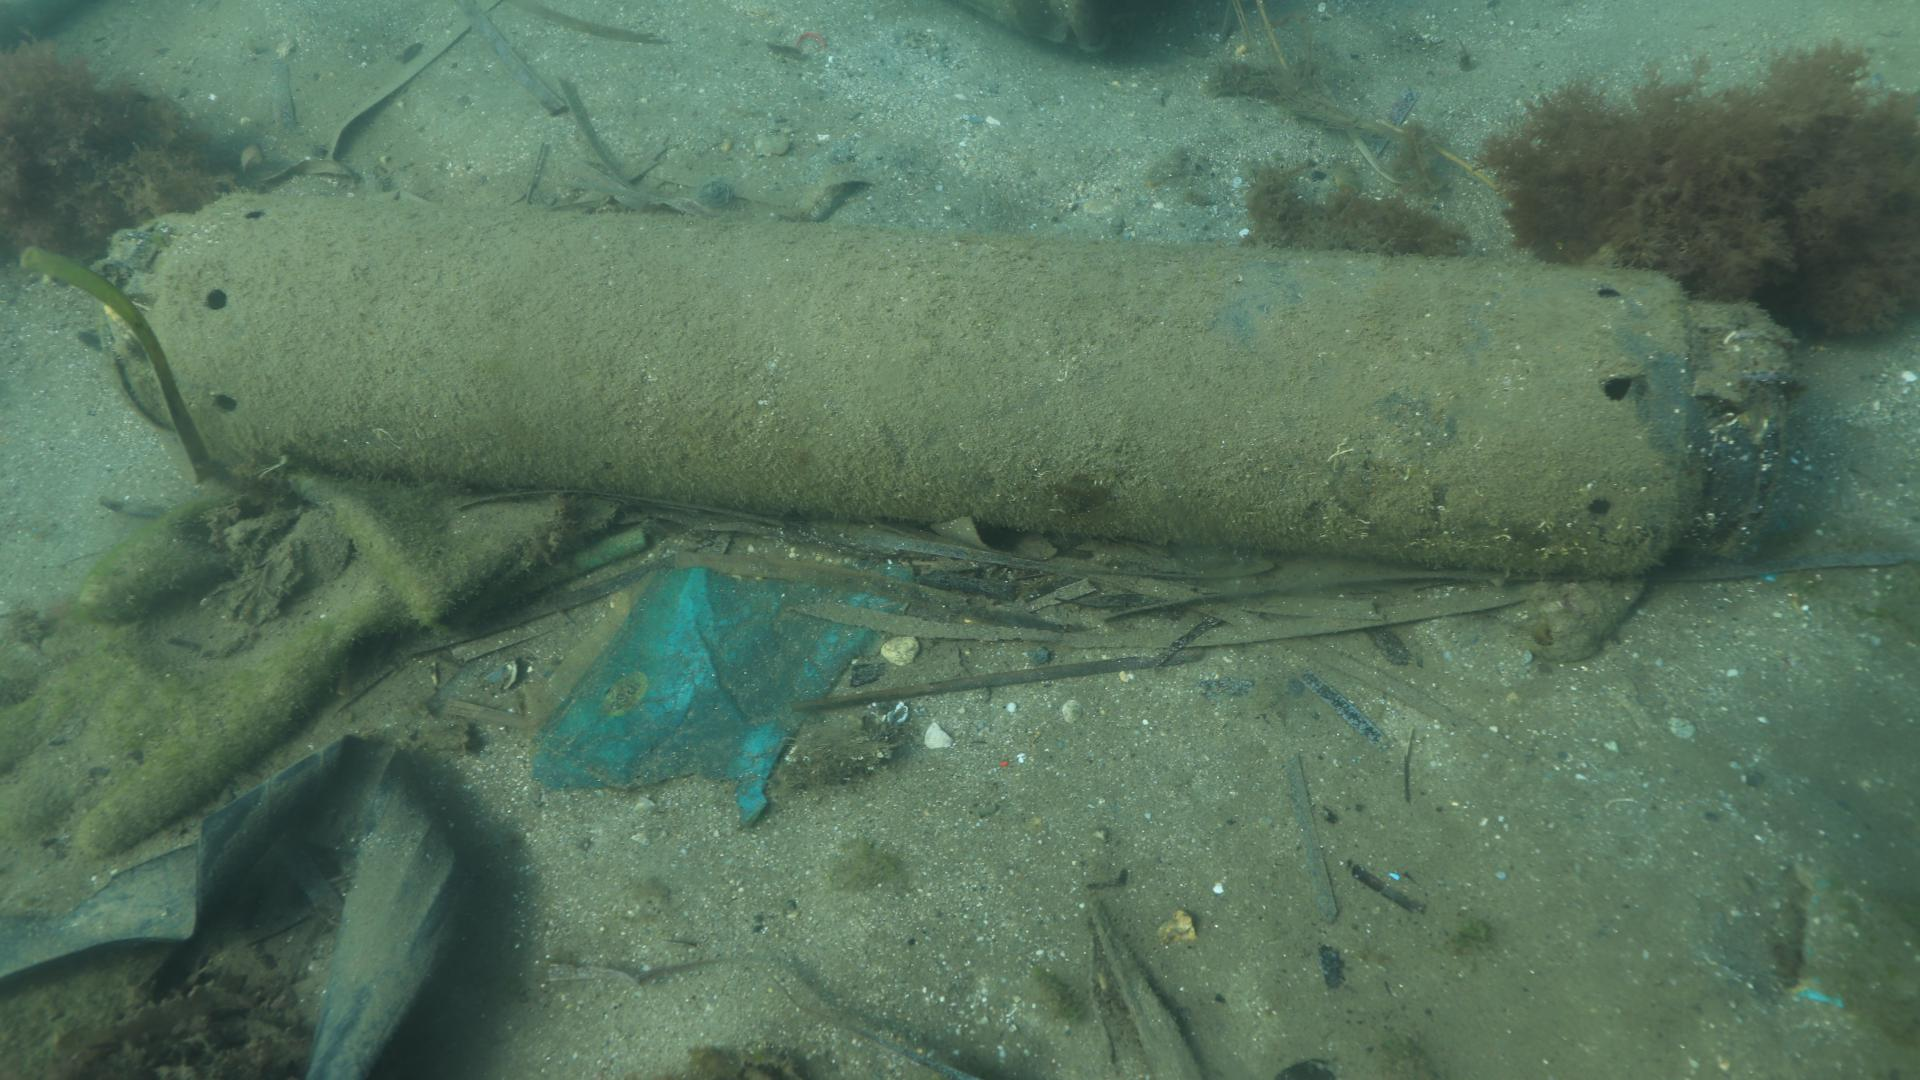eel fish trap: (94, 193, 1795, 578)
